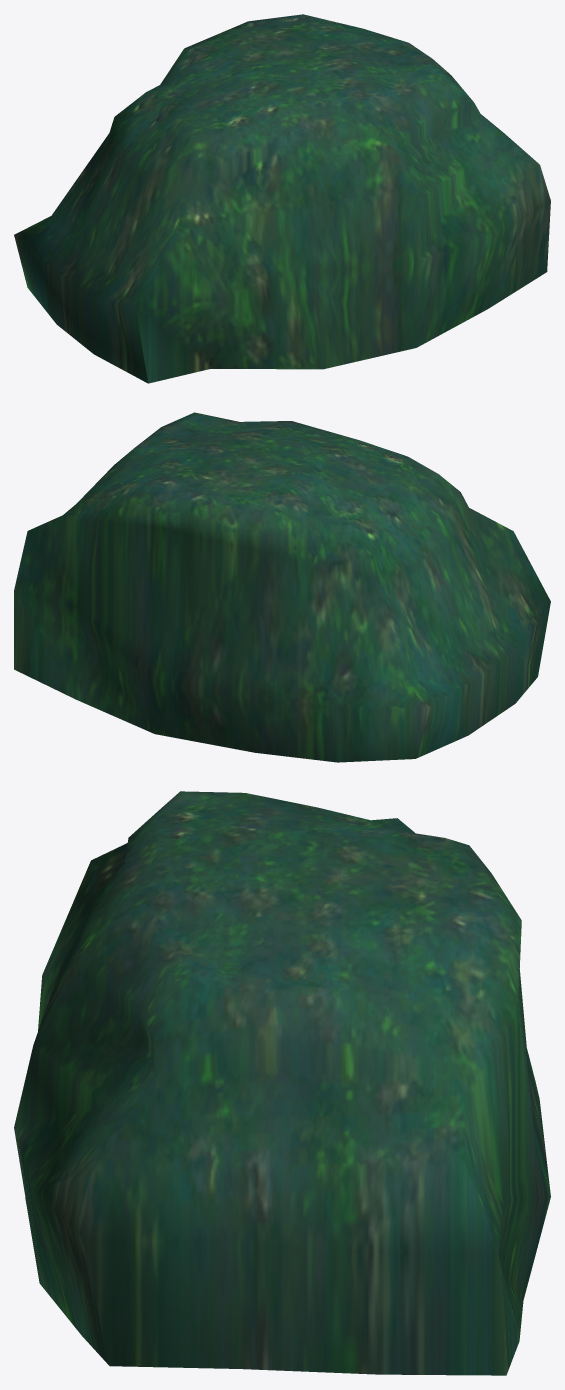
Rendered from MIRKWOOD_MIRK_PLAYSURFACE49.fbx.
The picture shows the model from 3 angles, top to bottom: view 1: azimuth 30°, elevation 25°; view 2: azimuth 150°, elevation 25°; view 3: azimuth 270°, elevation 25°; orthographic projection. The views are drawn at different scales.
Visible parts, largest first — view 1: MIRKWOOD_MIRK_PLAYSURFACE49; view 2: MIRKWOOD_MIRK_PLAYSURFACE49; view 3: MIRKWOOD_MIRK_PLAYSURFACE49.
Part boxes in pixels (x1=…): MIRKWOOD_MIRK_PLAYSURFACE49: x1=14, y1=14, x2=550, y2=383; MIRKWOOD_MIRK_PLAYSURFACE49: x1=14, y1=412, x2=550, y2=762; MIRKWOOD_MIRK_PLAYSURFACE49: x1=14, y1=791, x2=550, y2=1375.
Bounding box in the file's own units: 87768 × 48069 × 59116.
Materials: 1 (1 with a texture image).
